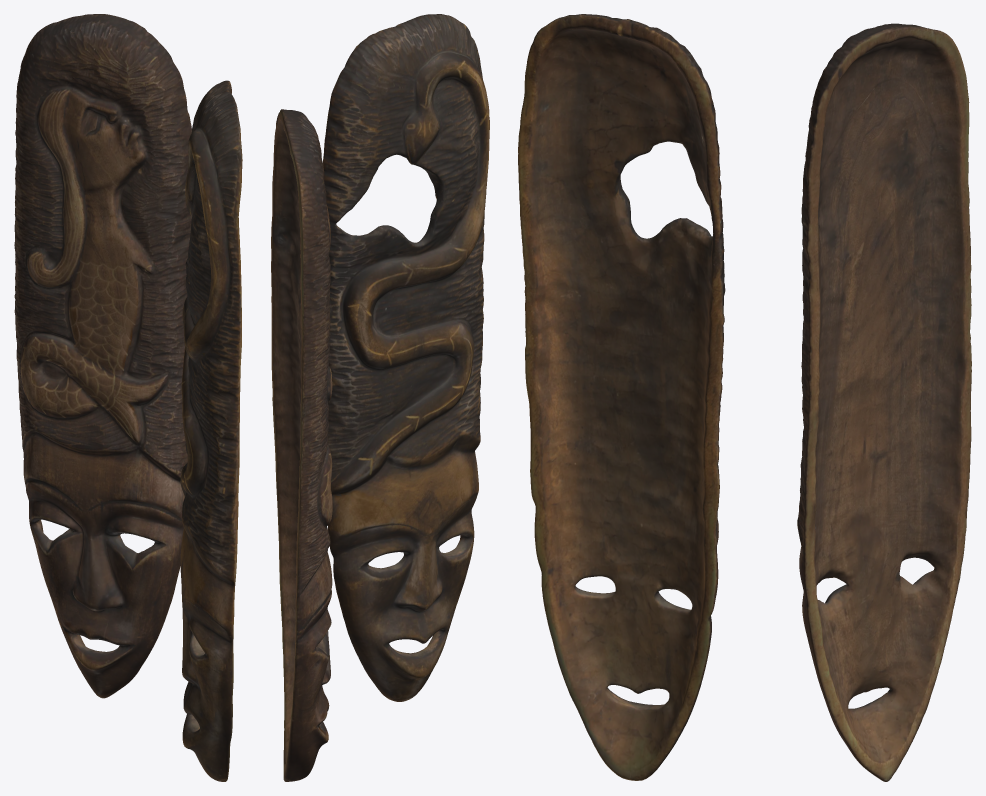
The model's file is sf-african-masks-0bdd07.glb.
3 renders of one model, left to right at view 1: azimuth 30°, elevation 25°; view 2: azimuth 150°, elevation 25°; view 3: azimuth 270°, elevation 25°, orthographic. The views are drawn at different scales.
Visible parts, largest first — view 1: Object_2, Object_3; view 2: Object_3, Object_2; view 3: Object_3, Object_2.
Part boxes in pixels (x1,y1,x2,y2): Object_2: (14,14,191,698); Object_3: (180,80,242,781); Object_3: (323,14,489,701); Object_2: (271,109,332,781); Object_3: (518,14,725,780); Object_2: (797,23,971,781).
Size of the model in its own units: 3.01 by 17.1 by 9.22.
2 materials, 2 textured.
